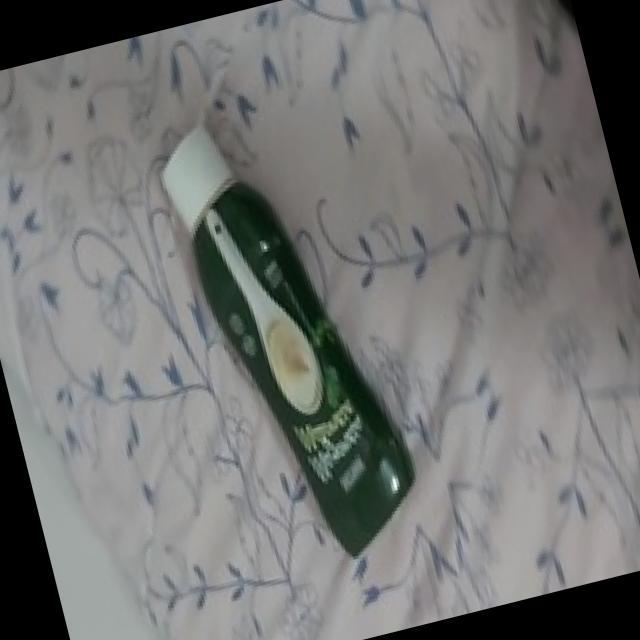good: (141, 85, 435, 591)
